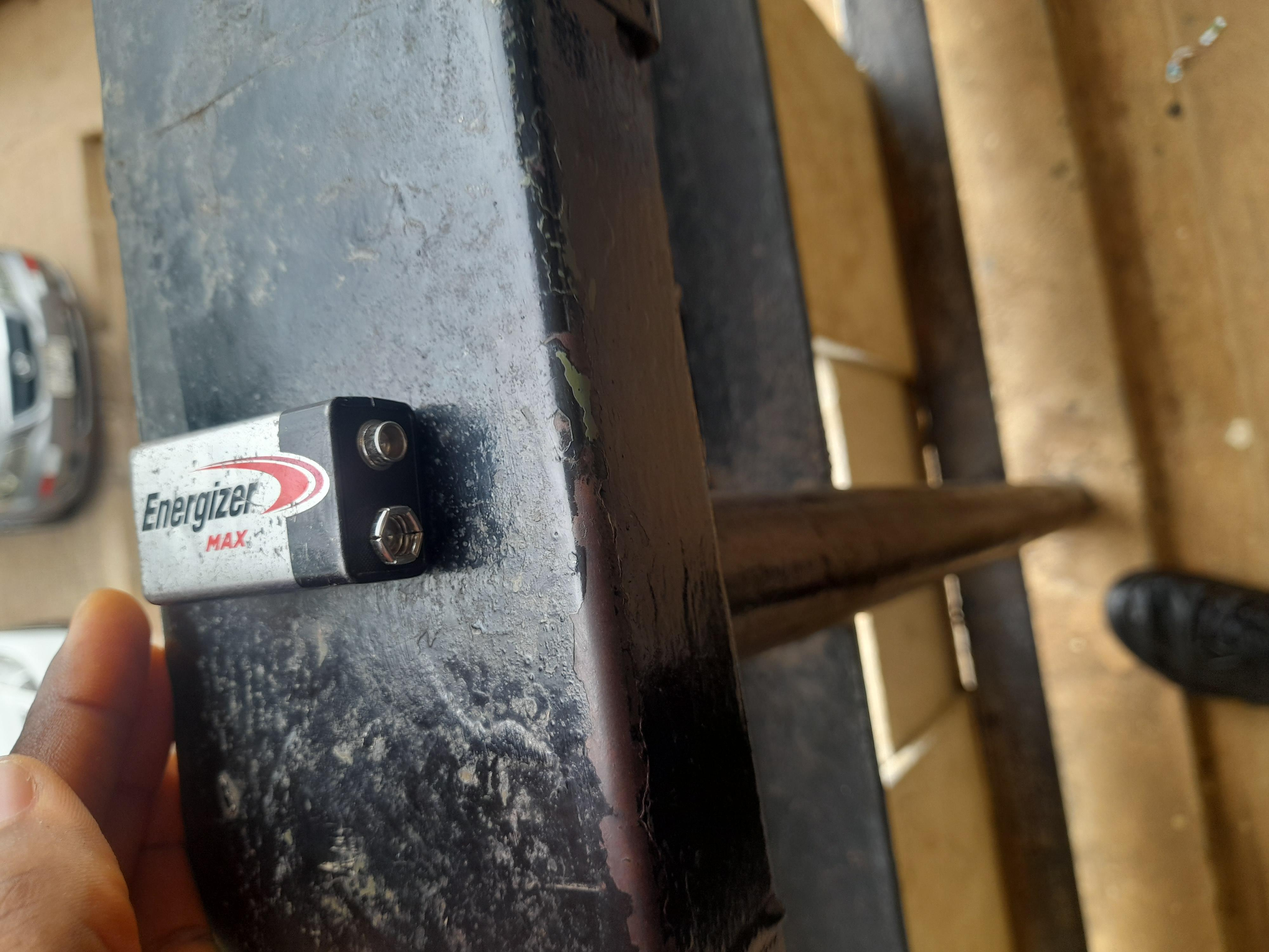9V: (822, 343, 1153, 581)
